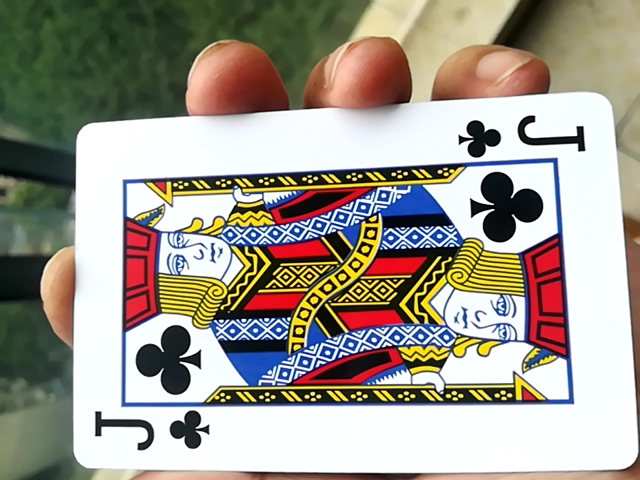mh j: (56, 104, 624, 475)
